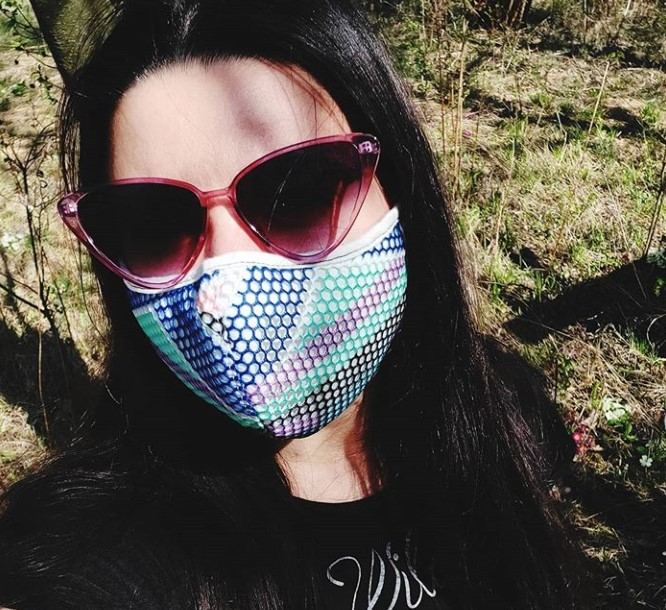face_with_mask: (62, 31, 426, 456)
